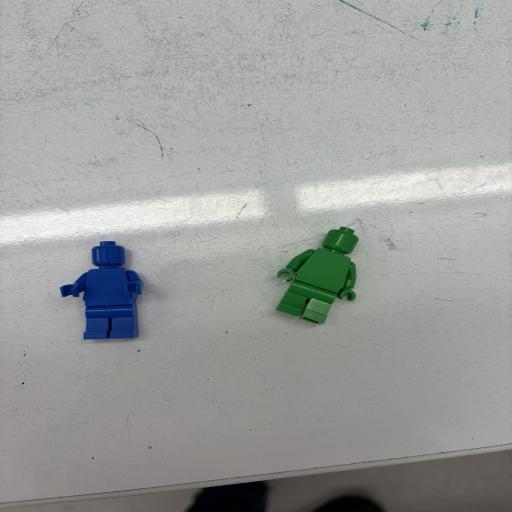Blue-Lego: (60, 241, 144, 339)
Green-Lego: (276, 227, 358, 324)
